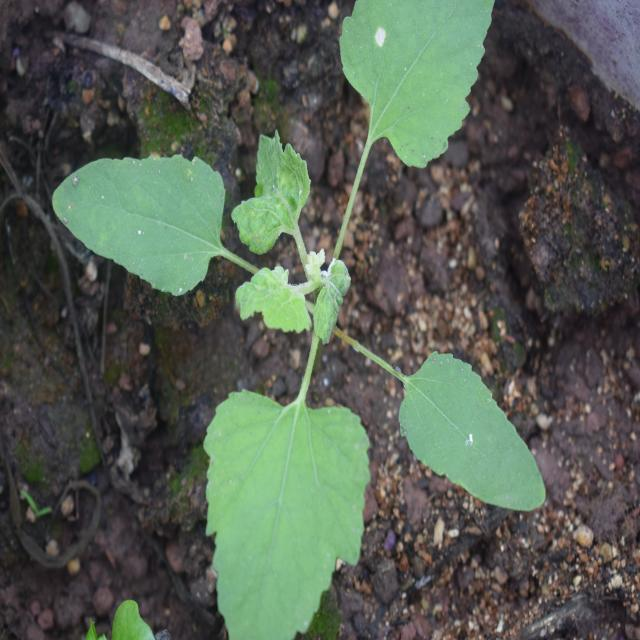cocklebur: (86, 19, 542, 626)
